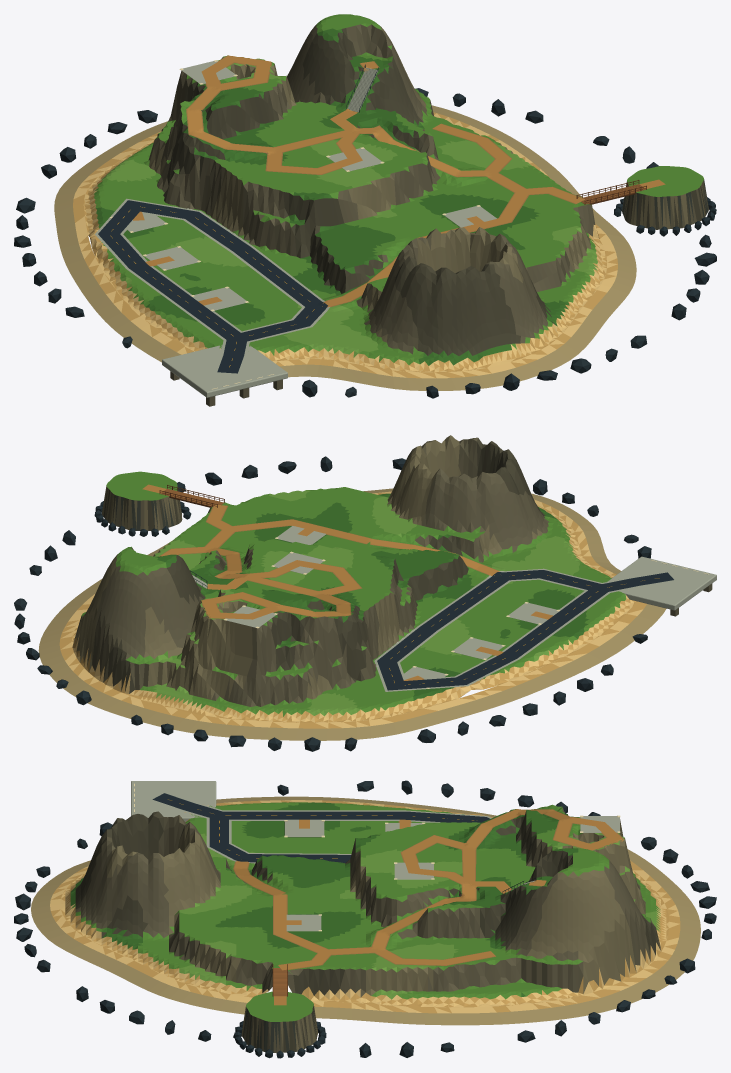
The model's file is island.glb.
The picture shows the model from 3 angles, top to bottom: view 1: azimuth 30°, elevation 25°; view 2: azimuth 150°, elevation 25°; view 3: azimuth 270°, elevation 25°; orthographic projection. The views are drawn at different scales.
Parts seen in each view (by area): view 1: Island_Main_Continuous_Terrain, Shore_Submerged_Sand_Shelf, town-loop_asphalt, Beach_Continuous_Sand_Apron, Port_Arrival_Platform, Lookout_Islet_Rock_Cliff, town-loop_sidewalk, east-garden-trail_surface, central-garden-trail_surface, Lookout_Islet_Grass, summit-garden-trail_surface, terrace-ramp-3_surface (+4 smaller); view 2: Island_Main_Continuous_Terrain, Shore_Submerged_Sand_Shelf, Beach_Continuous_Sand_Apron, town-loop_asphalt, Port_Arrival_Platform, Lookout_Islet_Rock_Cliff, town-loop_sidewalk, central-garden-trail_surface, Lookout_Islet_Grass, east-garden-trail_surface, summit-garden-trail_surface, terrace-ramp-3_surface (+6 smaller); view 3: Island_Main_Continuous_Terrain, Shore_Submerged_Sand_Shelf, Beach_Continuous_Sand_Apron, town-loop_asphalt, Port_Arrival_Platform, Lookout_Islet_Rock_Cliff, east-garden-trail_surface, central-garden-trail_surface, Lookout_Islet_Grass, town-loop_sidewalk, summit-garden-trail_surface, terrace-ramp-2_surface (+7 smaller).
Boxes of the visible parts, x1=… form: Island_Main_Continuous_Terrain: x1=83, y1=14, x2=606, y2=372; Shore_Submerged_Sand_Shelf: x1=54, y1=105, x2=636, y2=390; town-loop_asphalt: x1=98, y1=200, x2=327, y2=343; Beach_Continuous_Sand_Apron: x1=73, y1=112, x2=617, y2=378; Port_Arrival_Platform: x1=162, y1=345, x2=287, y2=397; Lookout_Islet_Rock_Cliff: x1=622, y1=179, x2=708, y2=229; town-loop_sidewalk: x1=95, y1=198, x2=329, y2=342; east-garden-trail_surface: x1=418, y1=124, x2=529, y2=238; central-garden-trail_surface: x1=266, y1=128, x2=363, y2=174; Lookout_Islet_Grass: x1=627, y1=166, x2=703, y2=196; summit-garden-trail_surface: x1=201, y1=55, x2=270, y2=93; terrace-ramp-3_surface: x1=187, y1=87, x2=275, y2=153; Island_Main_Continuous_Terrain: x1=71, y1=435, x2=635, y2=722; Shore_Submerged_Sand_Shelf: x1=38, y1=488, x2=666, y2=740; Beach_Continuous_Sand_Apron: x1=59, y1=491, x2=646, y2=728; town-loop_asphalt: x1=377, y1=570, x2=612, y2=690; Port_Arrival_Platform: x1=607, y1=556, x2=716, y2=610; Lookout_Islet_Rock_Cliff: x1=102, y1=485, x2=182, y2=530; town-loop_sidewalk: x1=374, y1=568, x2=612, y2=691; central-garden-trail_surface: x1=230, y1=560, x2=360, y2=596; Lookout_Islet_Grass: x1=106, y1=471, x2=177, y2=500; east-garden-trail_surface: x1=160, y1=519, x2=371, y2=556; summit-garden-trail_surface: x1=201, y1=592, x2=287, y2=619; terrace-ramp-3_surface: x1=278, y1=593, x2=350, y2=616; Island_Main_Continuous_Terrain: x1=60, y1=802, x2=669, y2=1007; Shore_Submerged_Sand_Shelf: x1=31, y1=796, x2=700, y2=1025; Beach_Continuous_Sand_Apron: x1=50, y1=800, x2=680, y2=1013; town-loop_asphalt: x1=209, y1=811, x2=489, y2=862; Port_Arrival_Platform: x1=131, y1=781, x2=216, y2=821; Lookout_Islet_Rock_Cliff: x1=241, y1=1004, x2=318, y2=1052; east-garden-trail_surface: x1=274, y1=894, x2=495, y2=965; central-garden-trail_surface: x1=401, y1=835, x2=475, y2=892; Lookout_Islet_Grass: x1=246, y1=991, x2=313, y2=1021; town-loop_sidewalk: x1=206, y1=810, x2=491, y2=863; summit-garden-trail_surface: x1=554, y1=817, x2=622, y2=850; terrace-ramp-2_surface: x1=372, y1=884, x2=475, y2=949.
Bounding box in the file's own units: 213 × 41.1 × 231.
